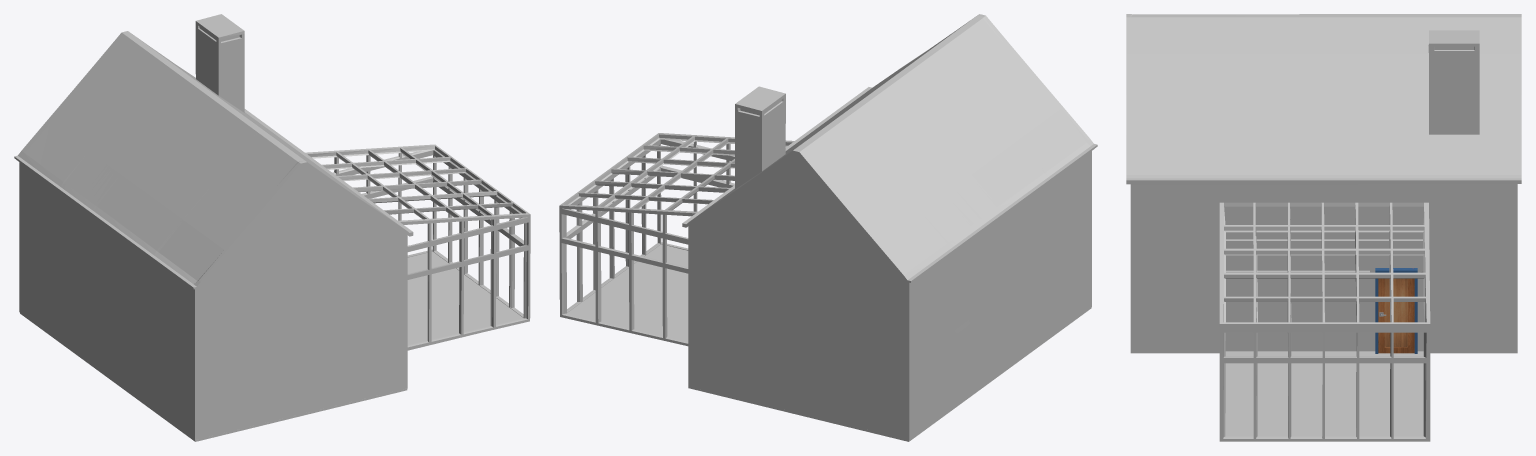
The model's file is GEO_GreenhouseFull_Final.fbx.
3 views of the same model, side by side, from view 1: azimuth 30°, elevation 25°; view 2: azimuth 150°, elevation 25°; view 3: azimuth 270°, elevation 25° (orthographic). The views are drawn at different scales.
Parts seen in each view (by area): view 1: GEO_Greenhouse, GEO_Floor; view 2: GEO_Greenhouse, GEO_Floor; view 3: GEO_Greenhouse, GEO_Floor, GEO_Door.
Part boxes in pixels (x1,y1,x2,y2): GEO_Greenhouse: (14, 14, 530, 440); GEO_Floor: (20, 251, 523, 441); GEO_Greenhouse: (559, 14, 1097, 440); GEO_Floor: (567, 244, 1091, 441); GEO_Greenhouse: (1126, 14, 1521, 441); GEO_Floor: (1130, 351, 1517, 436); GEO_Door: (1375, 268, 1417, 353).
Bounding box in the file's own units: 805 × 544 × 658.
